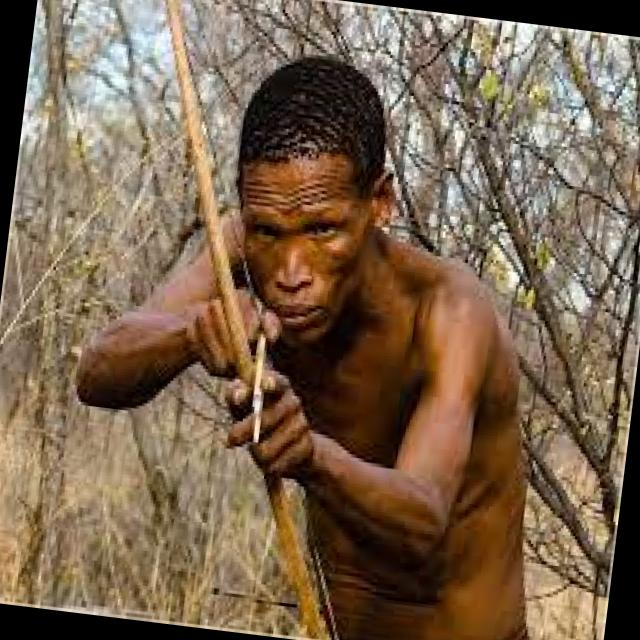poacher: (130, 29, 591, 610)
weapon: (181, 66, 323, 599)
